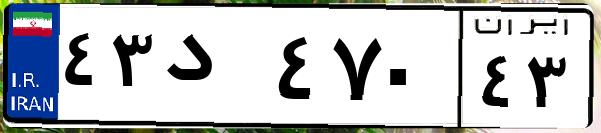0: (385, 28, 445, 110)
3: (525, 38, 570, 115), (110, 28, 158, 98)
4: (270, 28, 330, 110), (57, 26, 110, 100), (475, 38, 525, 113)
7: (330, 28, 385, 110)
د: (158, 20, 270, 120)
